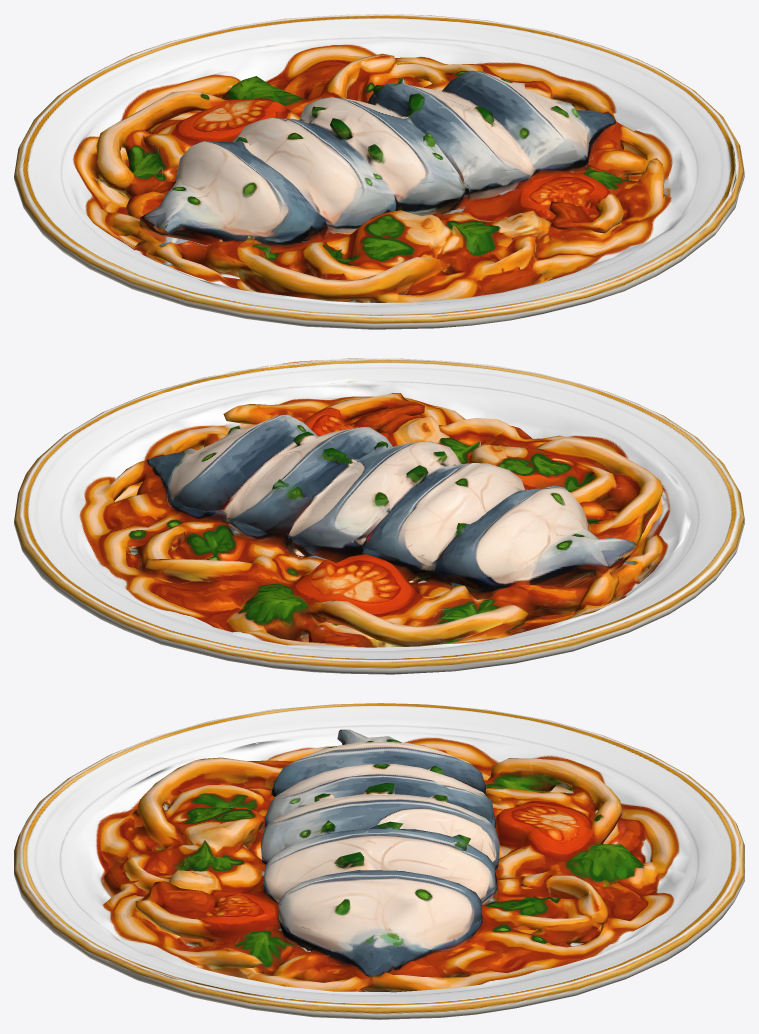
File: spaghetti_shark_pomodoro.glb
3 views of the same model, one above another, from view 1: azimuth 30°, elevation 25°; view 2: azimuth 150°, elevation 25°; view 3: azimuth 270°, elevation 25° (orthographic).
Bounding box in the file's own units: 1.91 × 0.4031 × 1.9.
1 material, 1 textured.
